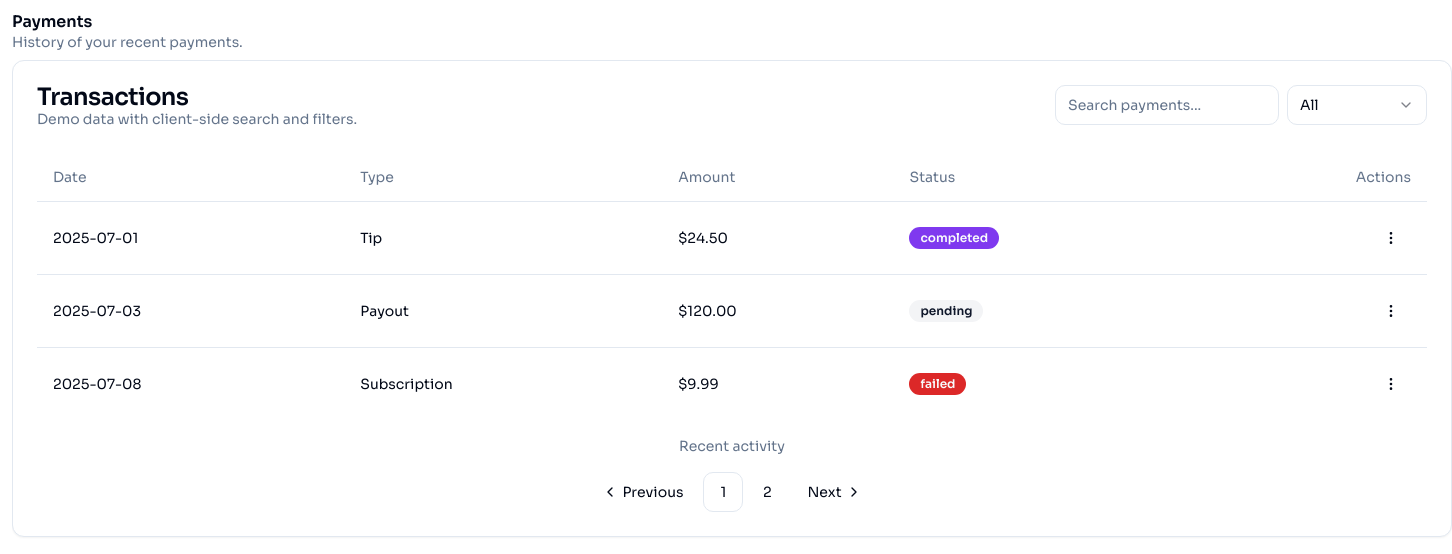
Test case: actions dropdown opens and shows items
Click the button named "actions for 1": coordinates (1391, 238) [1371,218,1411,258]
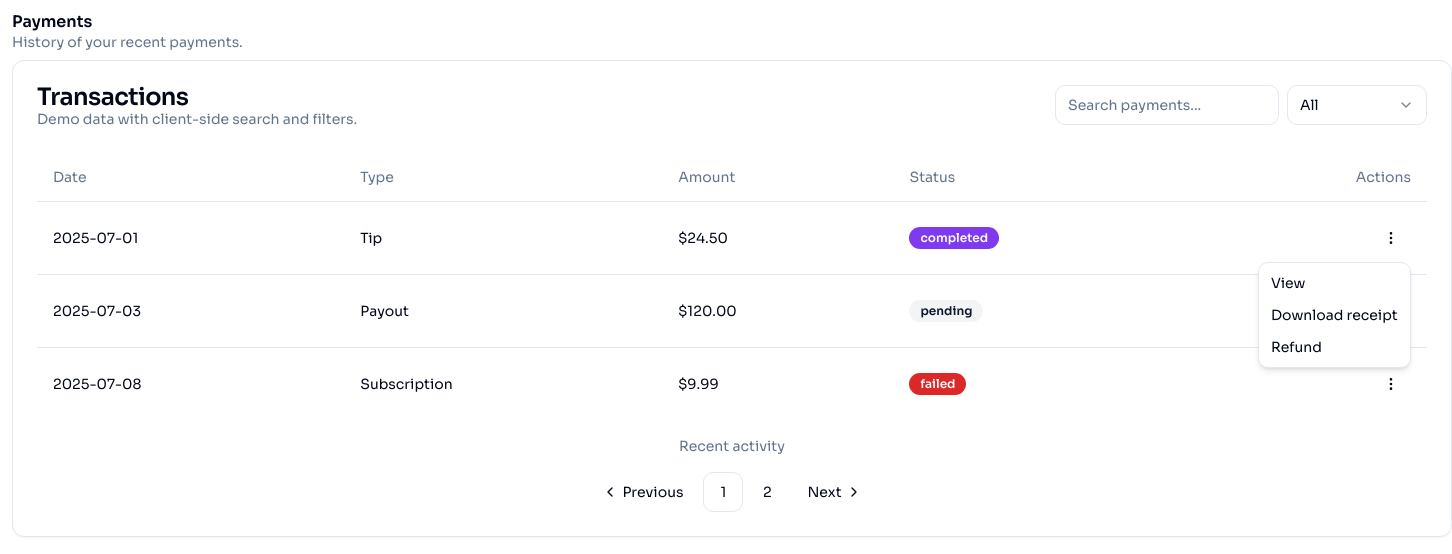
Result: the menu item "View" is shown at [1271,274,1305,292]
Result: the menu item "Download receipt" is shown at [1271,306,1398,324]
Result: the menu item "Refund" is shown at [1271,338,1322,356]
